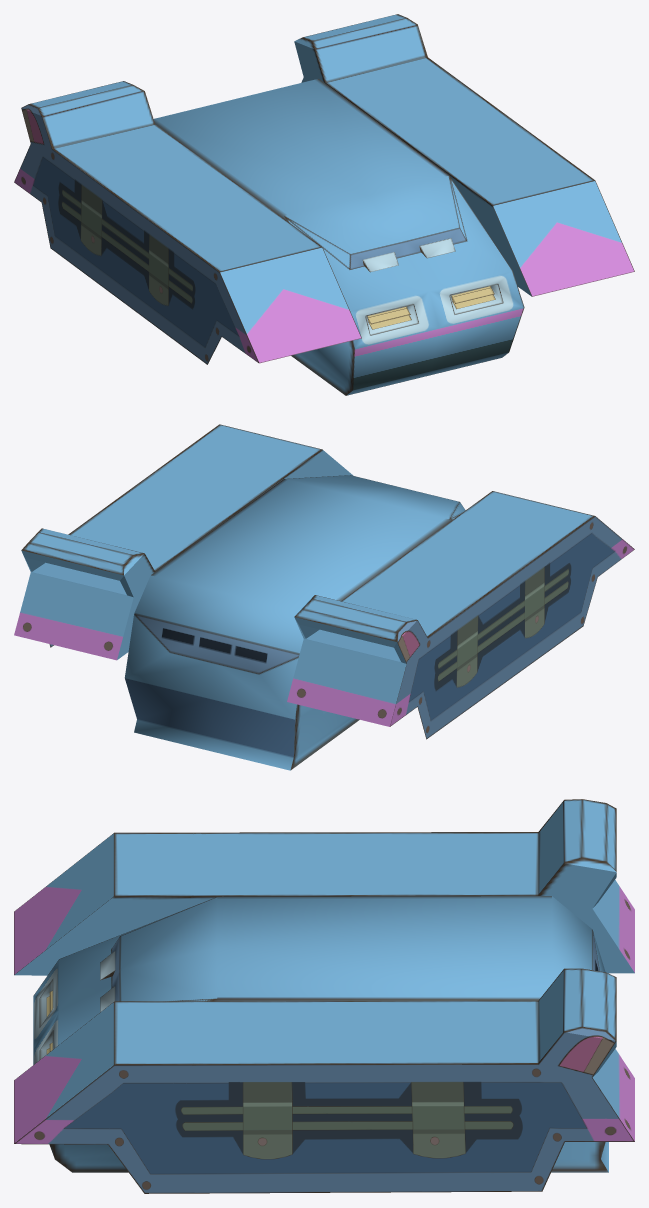
The model's file is Tank3_Base.fbx.
The picture shows the model from 3 angles, top to bottom: view 1: azimuth 30°, elevation 25°; view 2: azimuth 150°, elevation 25°; view 3: azimuth 270°, elevation 25°; orthographic projection. The views are drawn at different scales.
Parts seen in each view (by area): view 1: Base; view 2: Base; view 3: Base.
Part boxes in pixels (box(x1,y1,x2,y2)): Base: box(14, 14, 634, 395); Base: box(14, 424, 634, 770); Base: box(14, 799, 634, 1193).
Size of the model in its own units: 3.43 by 1.45 by 3.88.
